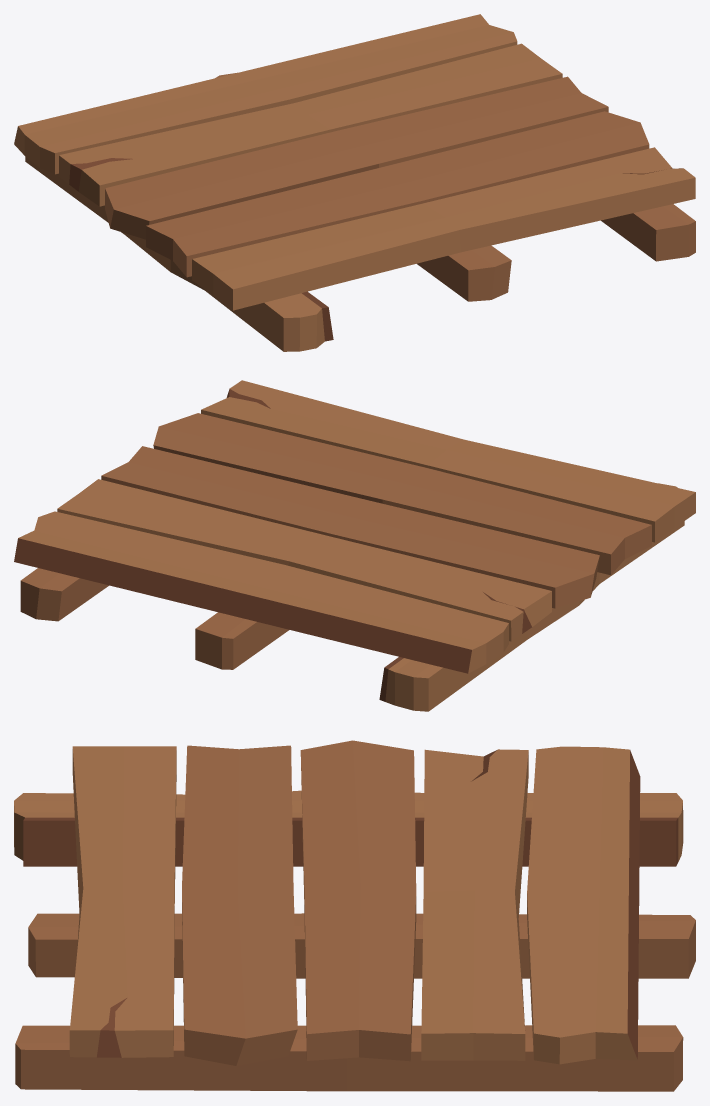
File: pallet.fbx
3 renders of one model, top to bottom at view 1: azimuth 30°, elevation 25°; view 2: azimuth 150°, elevation 25°; view 3: azimuth 270°, elevation 25°, orthographic. The views are drawn at different scales.
Parts seen in each view (by area): view 1: pallet; view 2: pallet; view 3: pallet.
Boxes of the visible parts, x1,y1,x2,y2 form: pallet: [14, 14, 695, 351]; pallet: [14, 380, 695, 711]; pallet: [14, 740, 695, 1091].
Size of the model in its own units: 0.8504 by 0.0963 by 0.8222.
